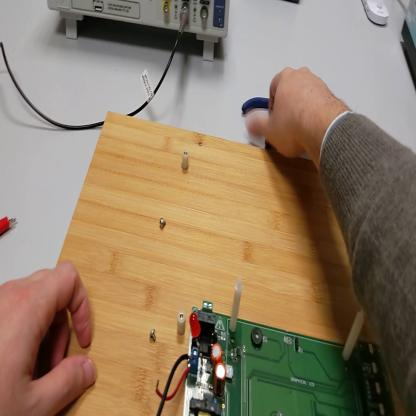hand: (1, 264, 97, 415), (245, 64, 341, 163)
low voltage board: (153, 280, 395, 416)
oscilloscope: (47, 4, 232, 62)
pliers: (242, 98, 276, 150)
welder station: (401, 3, 415, 79)
working area: (29, 113, 399, 413)
